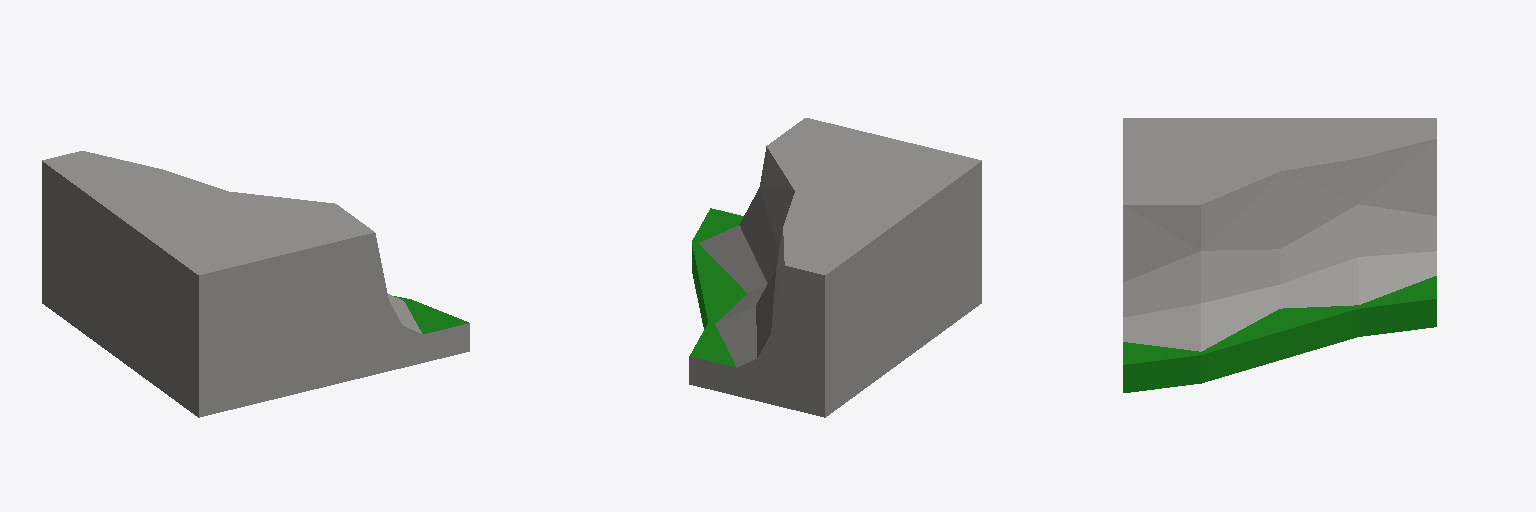
File: Cliff_Base_Waterfall.obj
The picture shows the model from 3 angles: view 1: azimuth 30°, elevation 25°; view 2: azimuth 150°, elevation 25°; view 3: azimuth 270°, elevation 25°; orthographic projection.
Visible parts, largest first — view 1: object1; view 2: object1; view 3: object1.
Boxes of the visible parts, <box> form: object1: <box>42,151,469,417</box>; object1: <box>689,118,981,417</box>; object1: <box>1123,118,1436,392</box>.
Bounding box in the file's own units: 2 × 1 × 2.